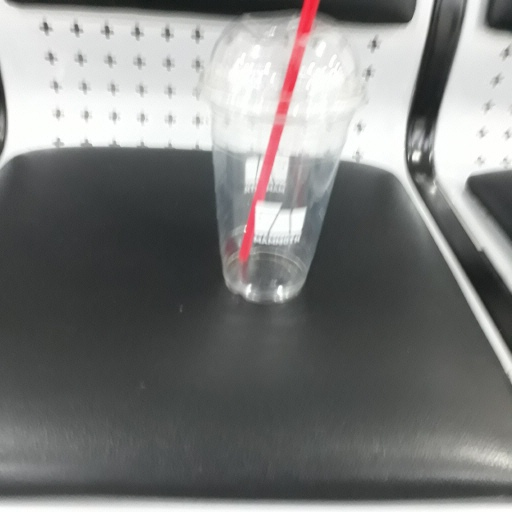Plastic_2: (203, 1, 366, 298)
